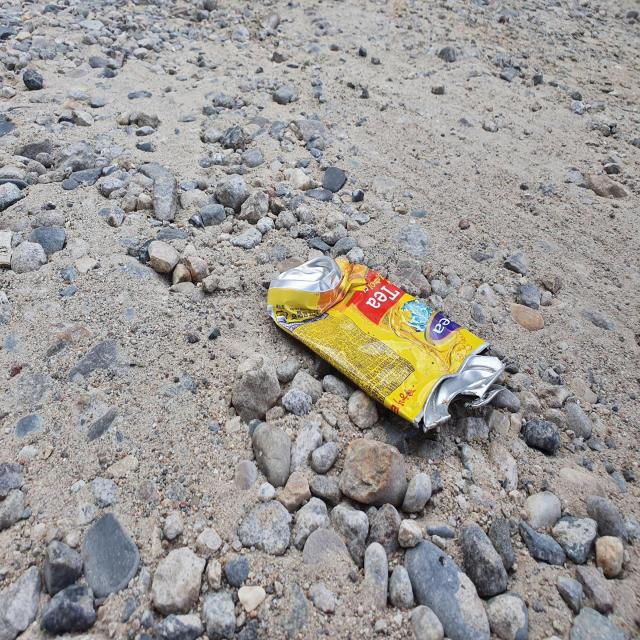can: (268, 256, 505, 430)
